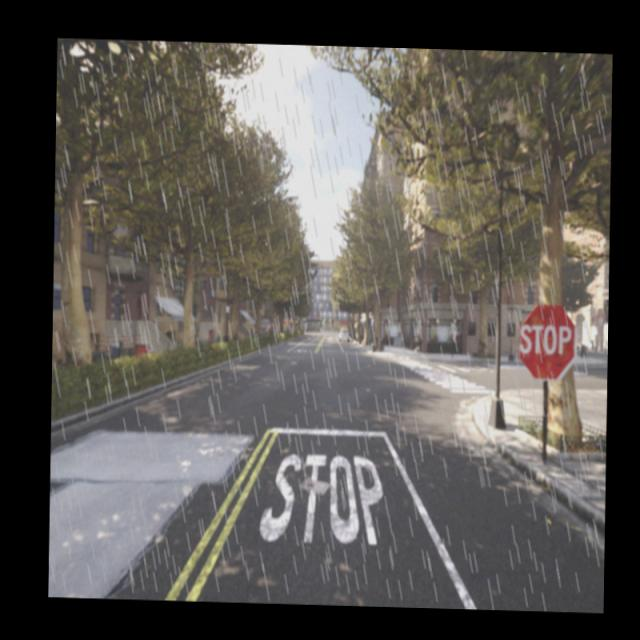stop sign: (515, 300, 578, 383)
